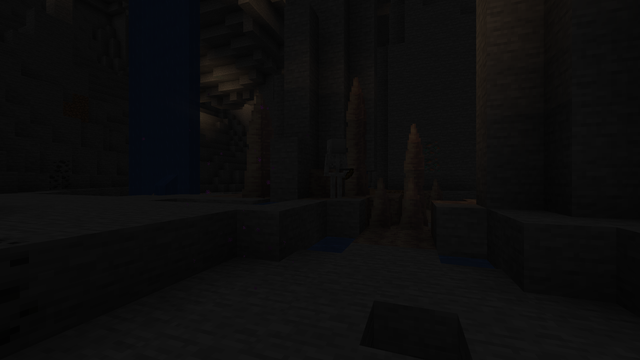squelettes: (325, 138, 346, 198)
